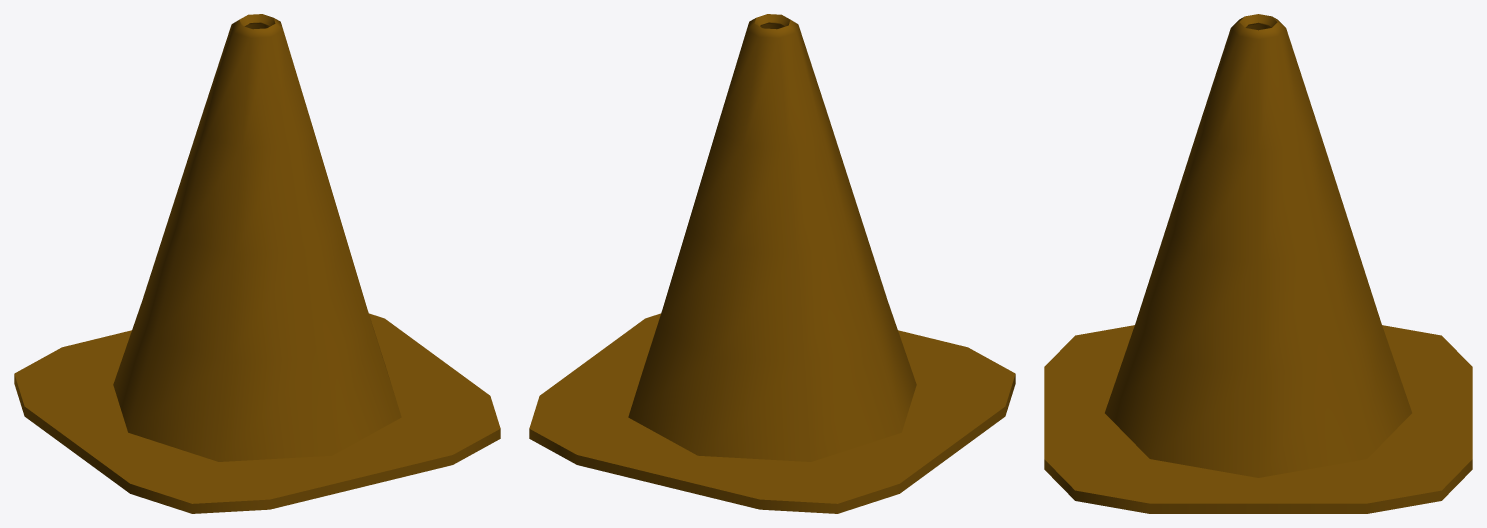
File: PS_TrafficCone.fbx
The picture shows the model from 3 angles, left to right: view 1: azimuth 30°, elevation 25°; view 2: azimuth 150°, elevation 25°; view 3: azimuth 270°, elevation 25°; orthographic projection. The views are drawn at different scales.
Parts seen in each view (by area): view 1: PS_TrafficCone; view 2: PS_TrafficCone; view 3: PS_TrafficCone.
Boxes of the visible parts, box(x1,y1,x2,y2) form: PS_TrafficCone: box(14, 14, 500, 513); PS_TrafficCone: box(529, 14, 1015, 513); PS_TrafficCone: box(1044, 14, 1472, 513).
Bounding box in the file's own units: 0.6516 × 0.6733 × 0.6516.
